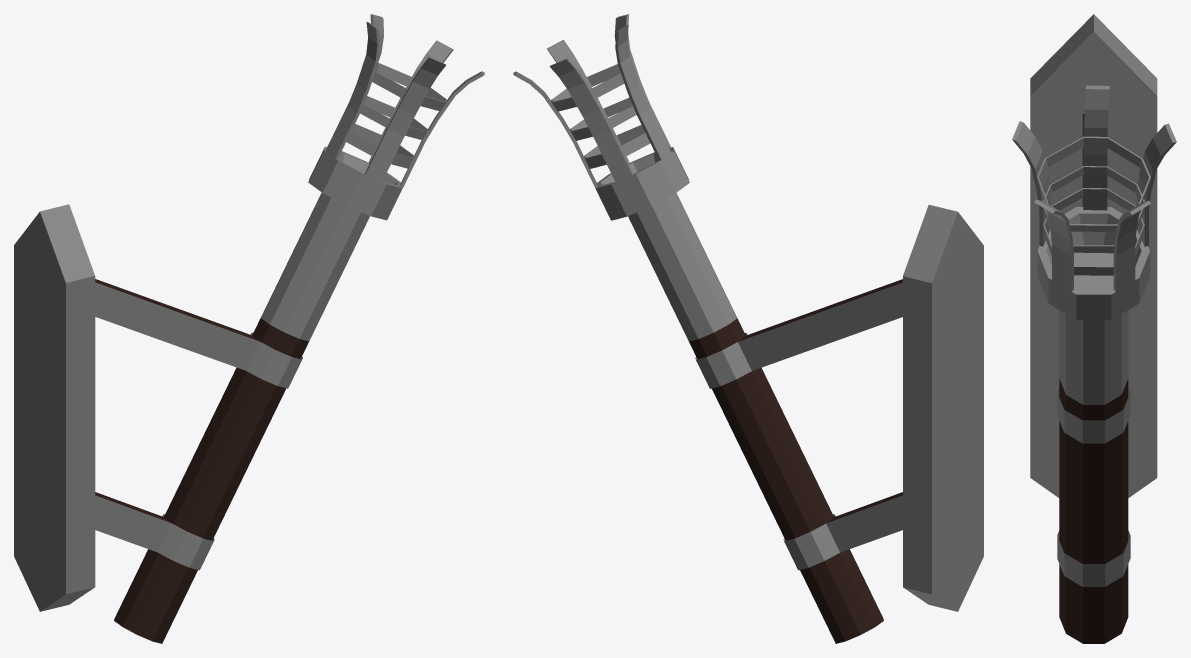
File: tocha1.fbx
3 views of the same model, side by side, from view 1: azimuth 30°, elevation 25°; view 2: azimuth 150°, elevation 25°; view 3: azimuth 270°, elevation 25° (orthographic). The views are drawn at different scales.
Visible parts, largest first — view 1: Cylinder.007; view 2: Cylinder.007; view 3: Cylinder.007.
Part boxes in pixels (x1,y1,x2,y2): Cylinder.007: (14, 14, 484, 643); Cylinder.007: (513, 14, 983, 643); Cylinder.007: (1012, 14, 1176, 643).
Size of the model in its own units: 126 by 157 by 34.17.
